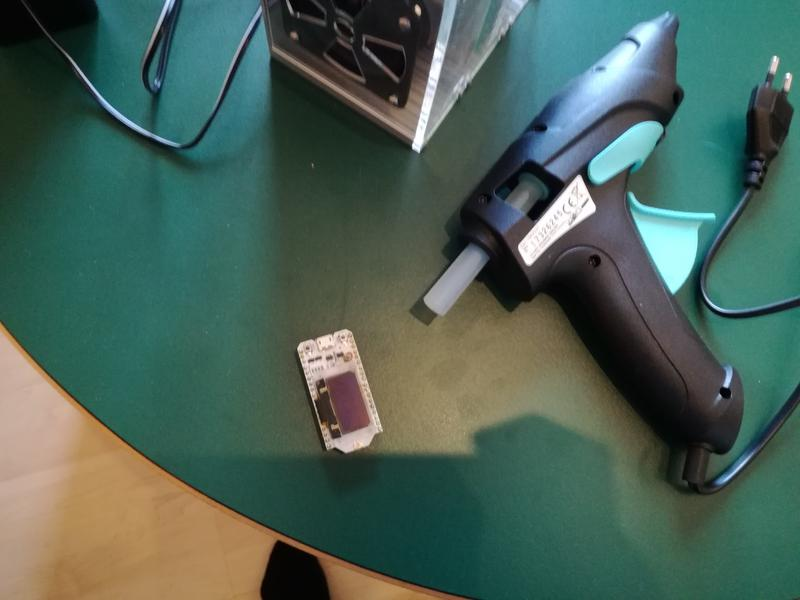Heltec_ESP32_Lora: (293, 325, 389, 456)
